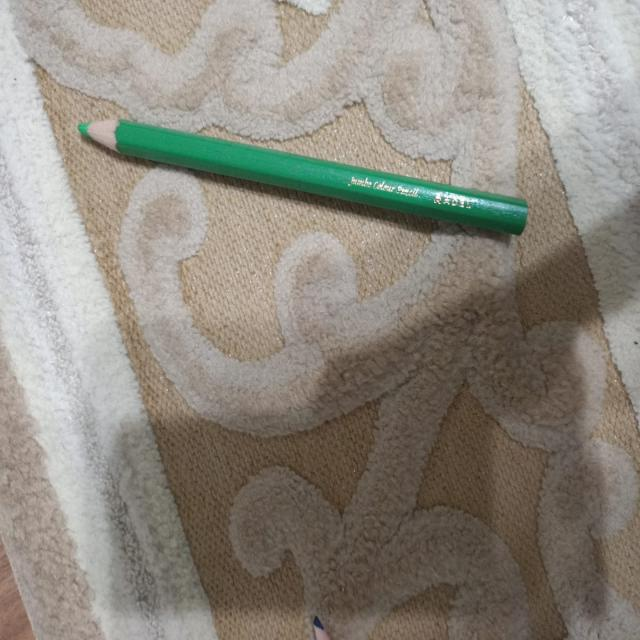pencil: (78, 120, 528, 235)
